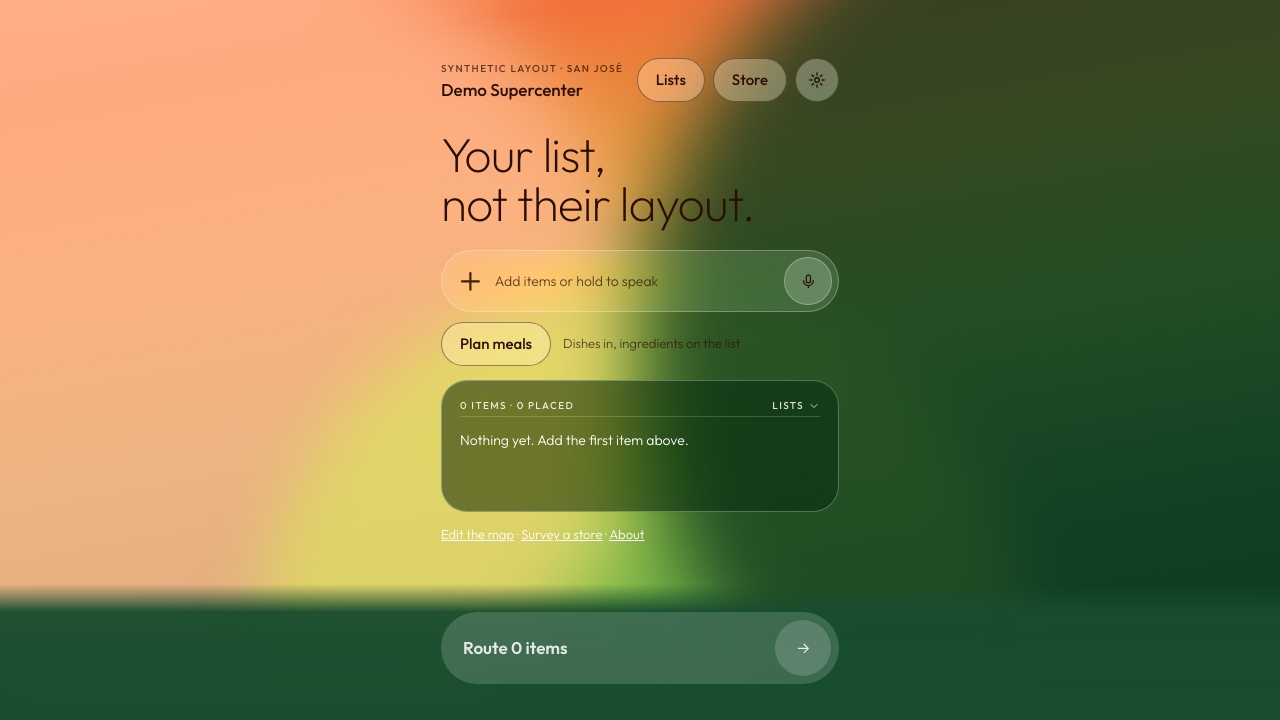
Test: list screen › Tell me where opens the picker; Remove drops a row
In the field labelled "Add items or hold to speak": (634, 281) [495,260,774,302], type "milk, unicorn"
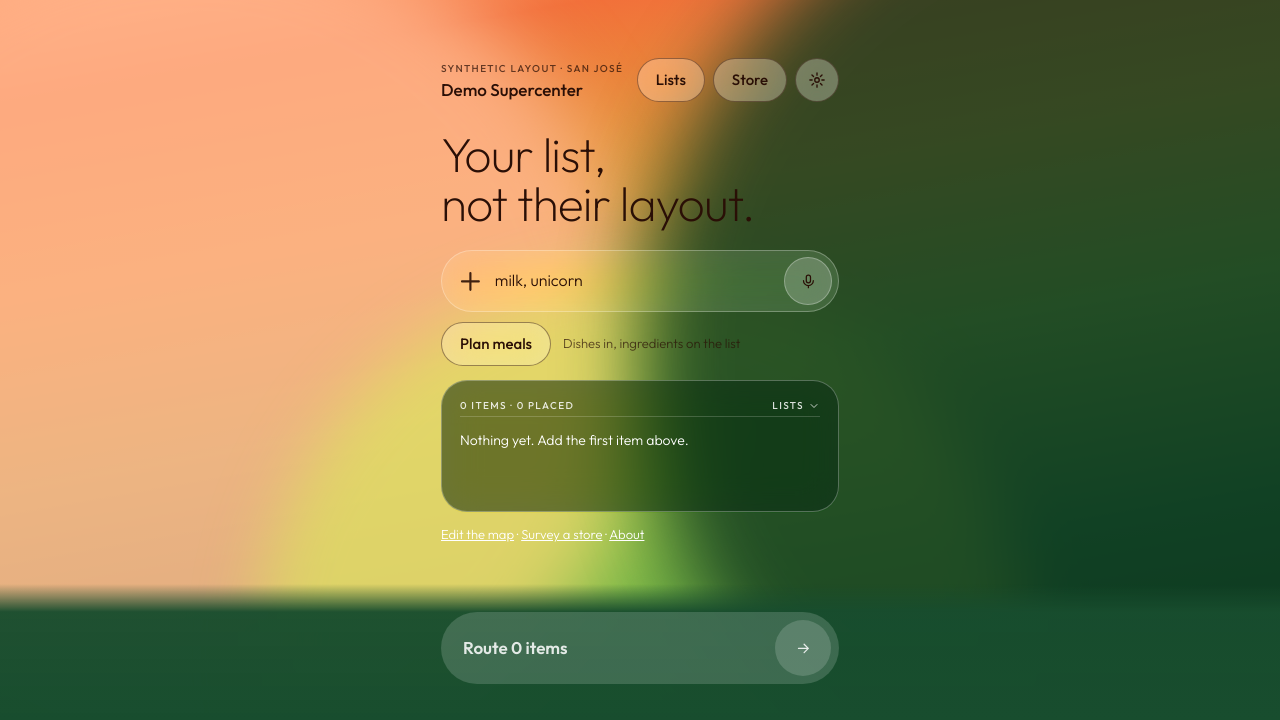
Submit the form named "add items", box [441,250,839,312]
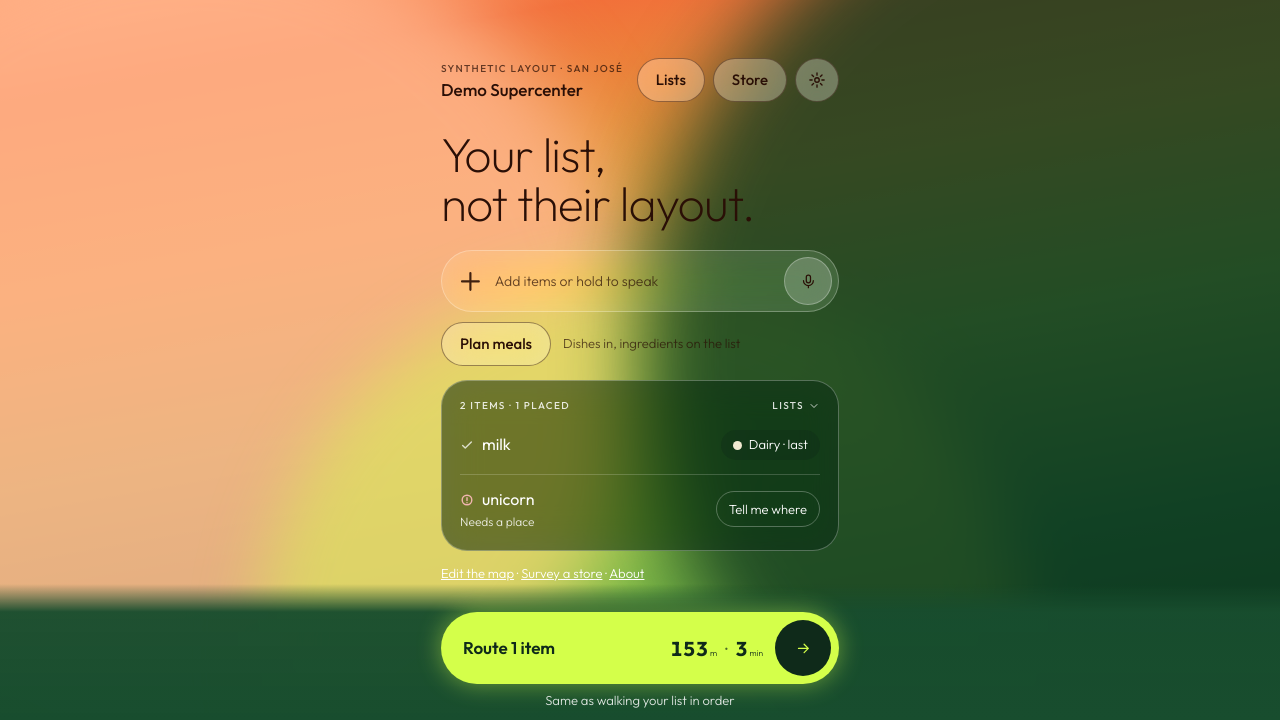
Click the button "Tell me where": (768, 509) [716,491,820,527]
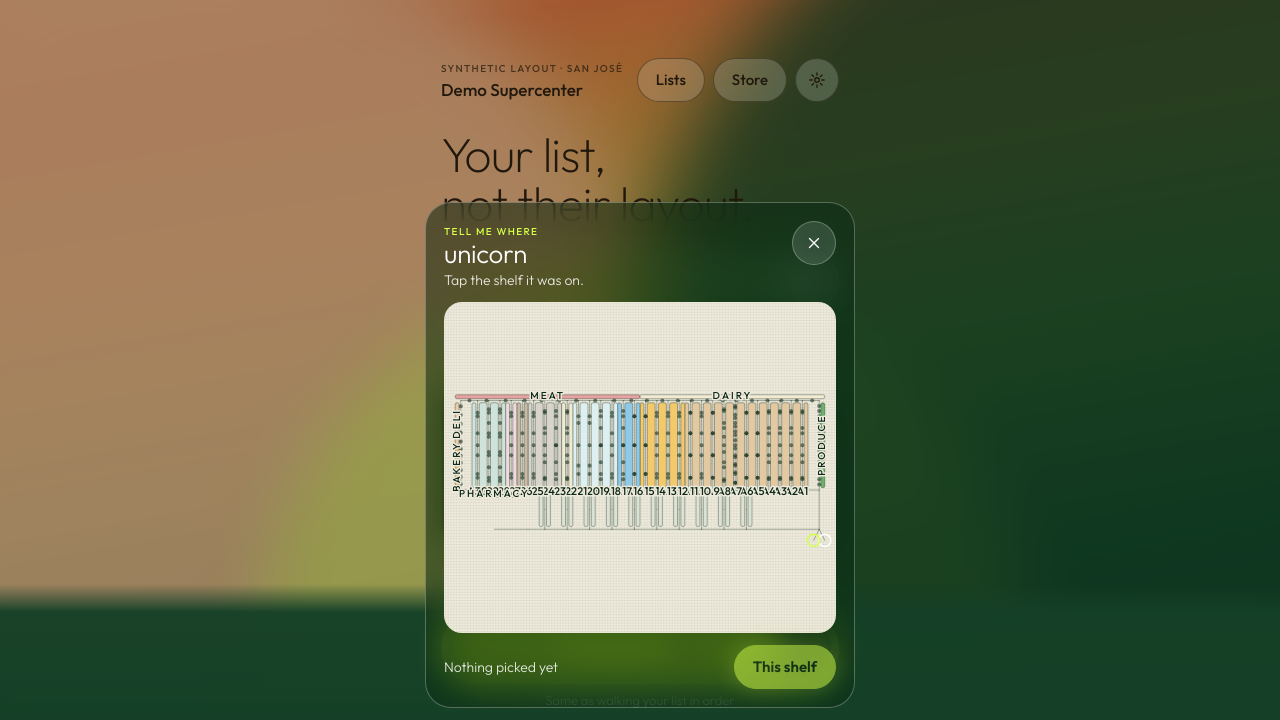
Result: the dialog named "where is unicorn" is shown
Click the button named "close": (814, 243) [792,221,836,265]
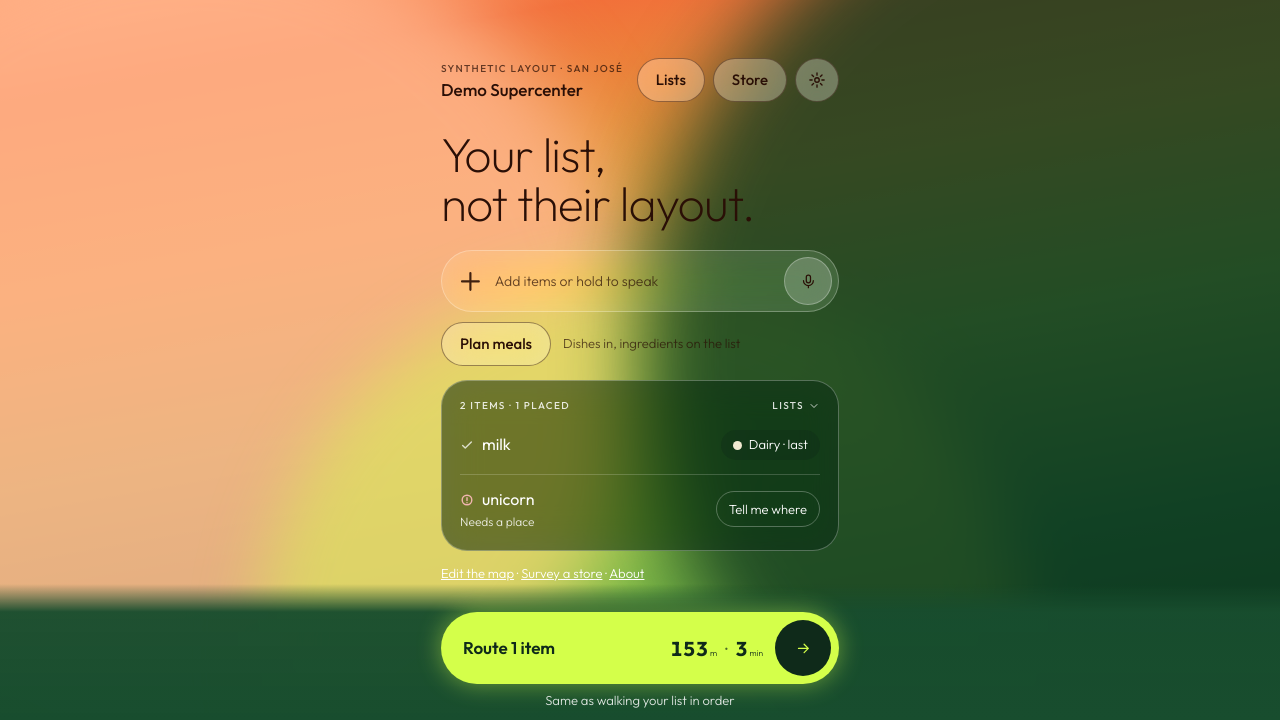
Click the button "milk": (584, 445) [460,434,709,456]
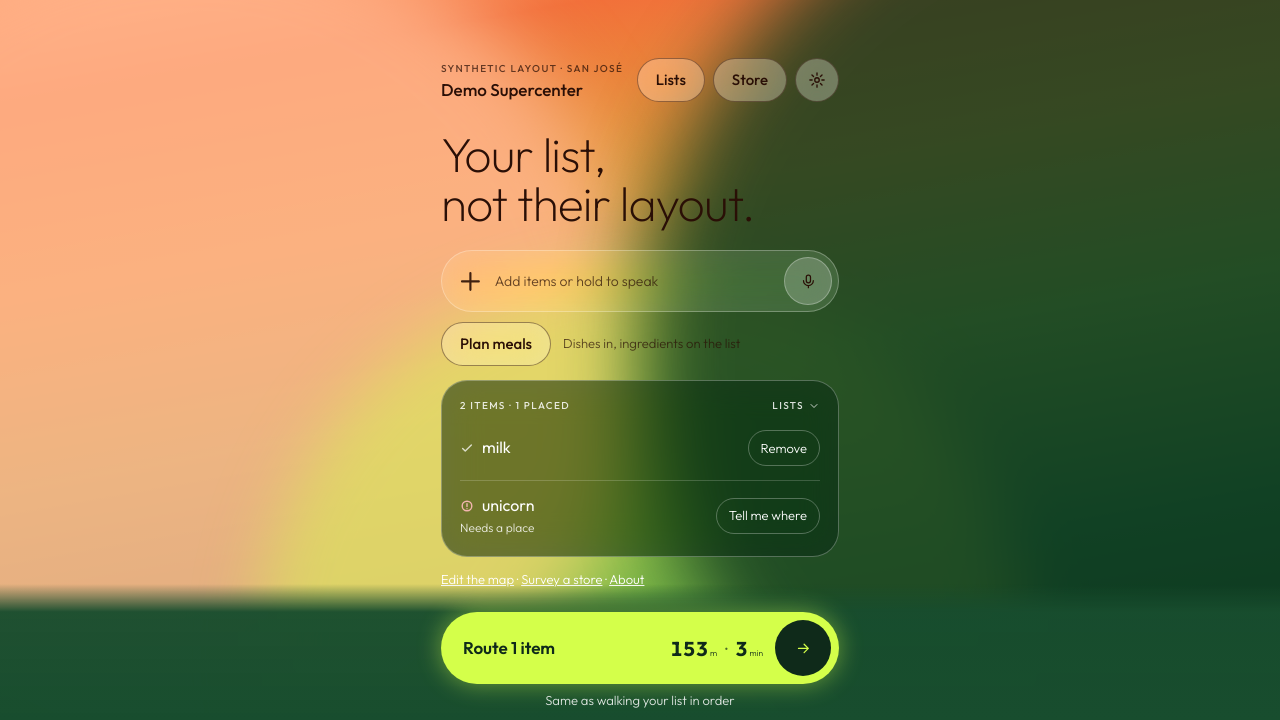
Click the button "Remove": (784, 448) [748,430,820,466]
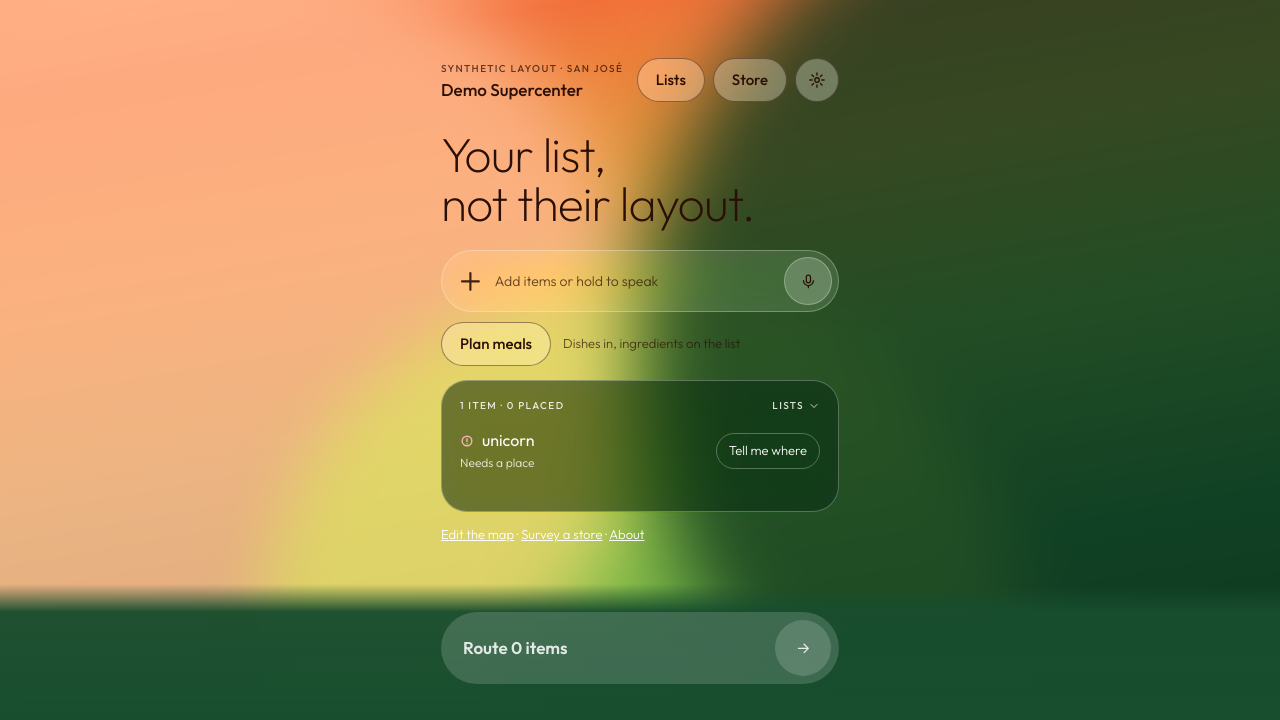
Result: the text "1 item · 0 placed" is shown at [460,399,564,412]
